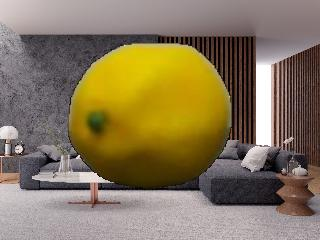lemon: (64, 39, 238, 193)
